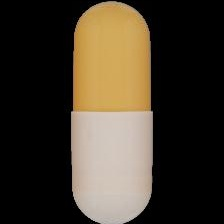60429-126: (0, 0, 224, 224)
